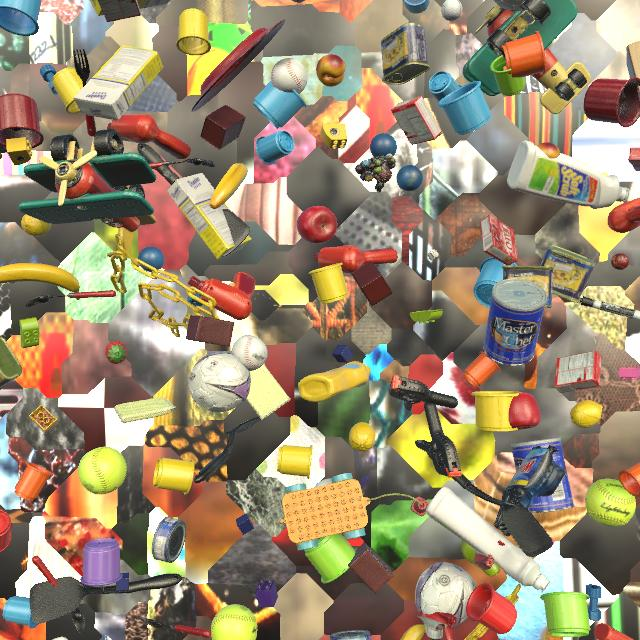ycb_002_master_chef_can: (483, 278, 547, 366), (510, 437, 575, 513)
ycb_004_sugar_box: (167, 173, 252, 260), (74, 45, 164, 121), (90, 0, 170, 16)
ycb_006_mustard_bottle: (298, 361, 371, 402)
ycb_007_tuna_fish_can: (152, 516, 186, 563), (330, 630, 371, 640)
ycb_009_gelatin_box: (391, 95, 442, 145), (554, 350, 602, 393), (481, 214, 518, 266), (98, 0, 141, 22), (628, 147, 640, 171)
ycb_010_potted_meat_can: (540, 245, 596, 303), (381, 23, 430, 85), (502, 266, 555, 308), (0, 336, 22, 390)
ycb_011_banana: (0, 263, 81, 300), (209, 163, 248, 209), (400, 624, 426, 640)
ycb_012_strawberry: (105, 341, 127, 364)
ycb_013_apple: (297, 206, 337, 244), (508, 393, 541, 430)
ycb_014_lemon: (570, 400, 603, 428), (349, 422, 375, 451), (21, 214, 51, 236)
ycb_015_peach: (316, 54, 346, 87), (537, 142, 560, 159)
ycb_016_pear: (461, 540, 500, 577)
